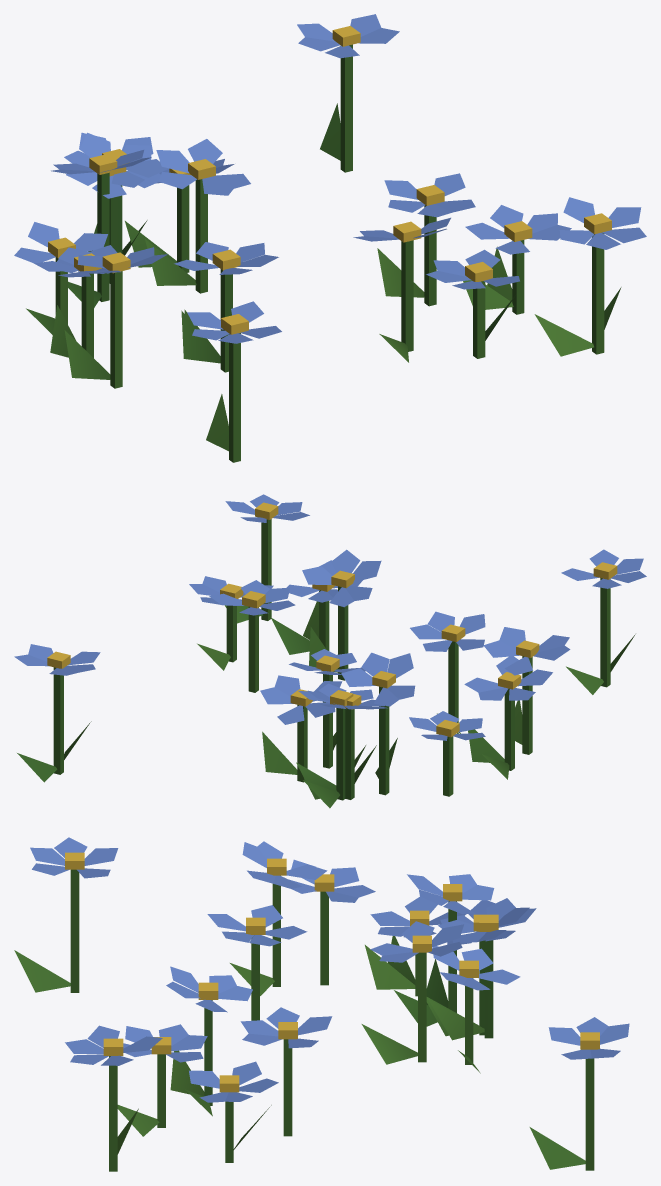
The model's file is FlowersBlue.glb.
3 views of the same model, one above another, from view 1: azimuth 30°, elevation 25°; view 2: azimuth 150°, elevation 25°; view 3: azimuth 270°, elevation 25° (orthographic). The views are drawn at different scales.
Visible parts, largest first — view 1: Petals.002, Stems.002; view 2: Petals.002, Stems.002; view 3: Petals.002, Stems.002.
Part boxes in pixels (box(x1,y1,x2,y2)): Petals.002: box(14, 14, 646, 343); Stems.002: box(26, 44, 621, 462); Petals.002: box(14, 494, 646, 740); Stems.002: box(17, 519, 635, 808); Petals.002: box(30, 837, 629, 1102); Stems.002: box(14, 869, 594, 1171).
Bounding box in the file's own units: 4.39 × 1.3 × 5.17.
